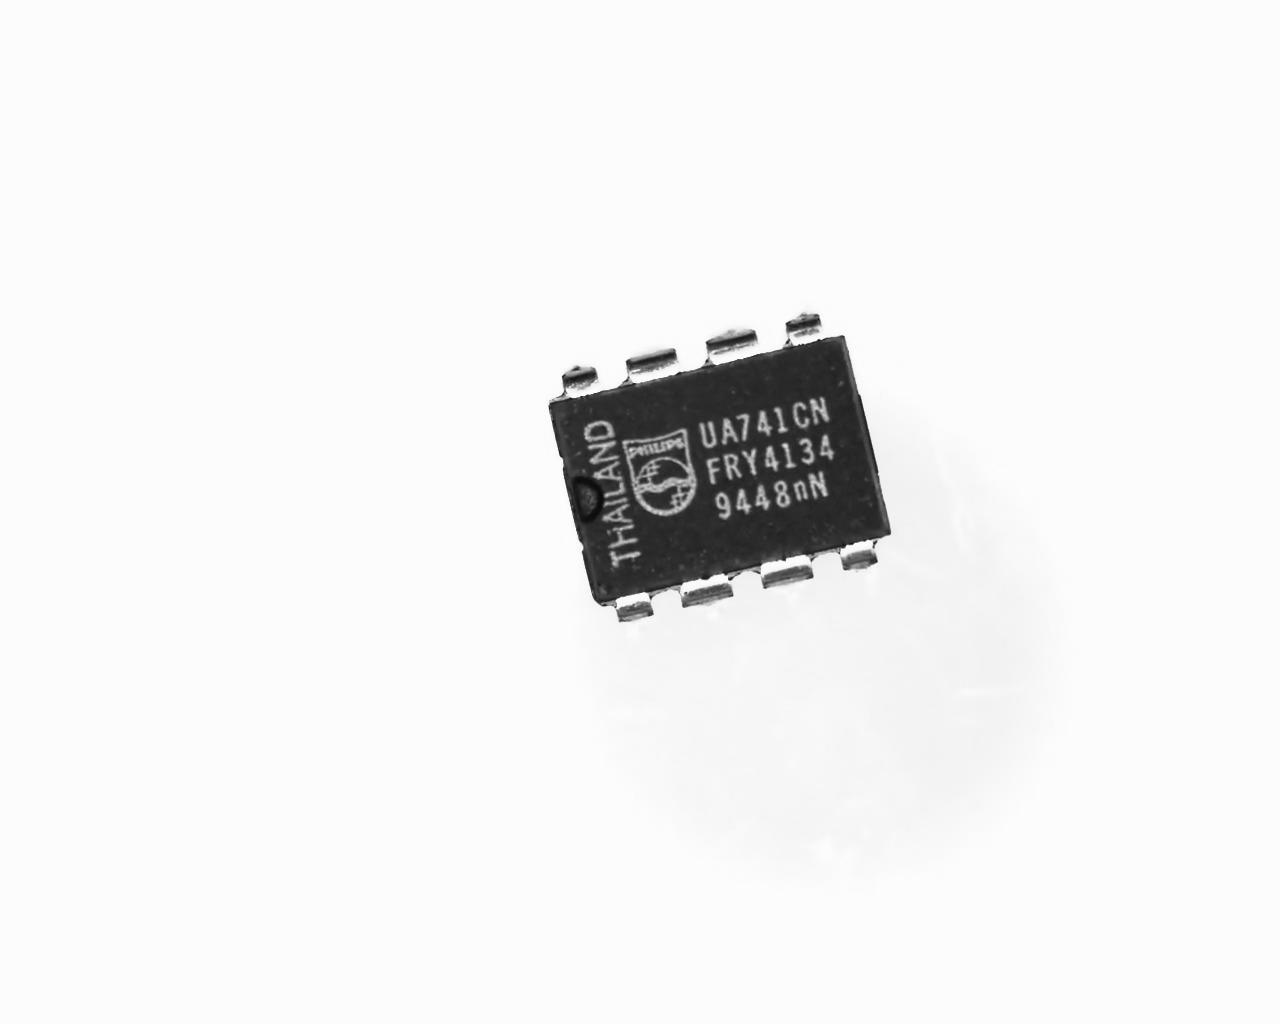Leg: (706, 322, 773, 374), (621, 343, 689, 392), (602, 583, 660, 630), (757, 553, 823, 590), (676, 571, 739, 610), (835, 530, 884, 580), (551, 355, 607, 397), (775, 304, 825, 351)
